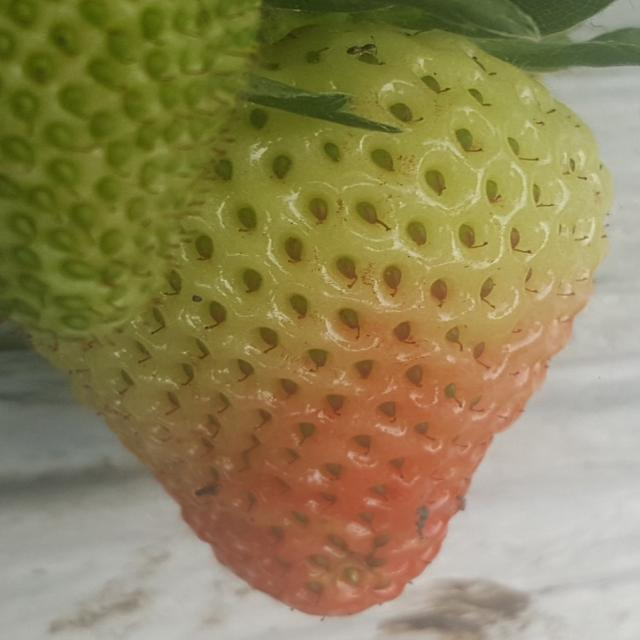Strawberry: (17, 0, 616, 618), (0, 0, 249, 347)
